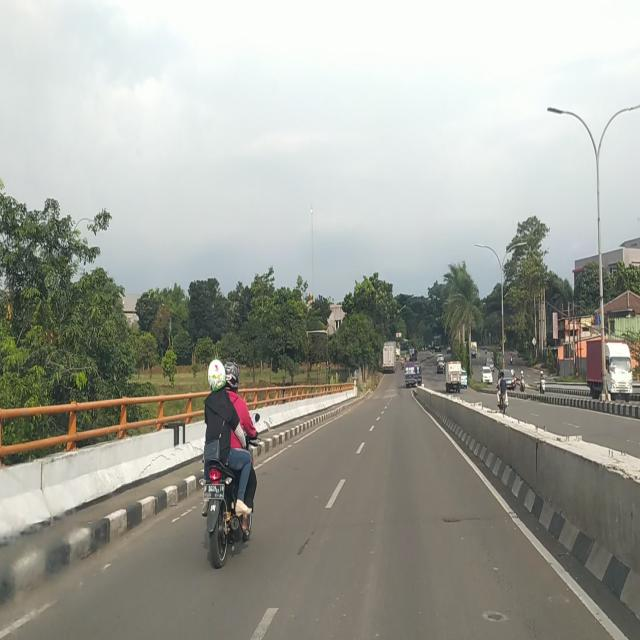Sewer Cover: (437, 516, 492, 526)
